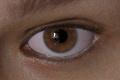eye: (43, 25, 77, 53)
